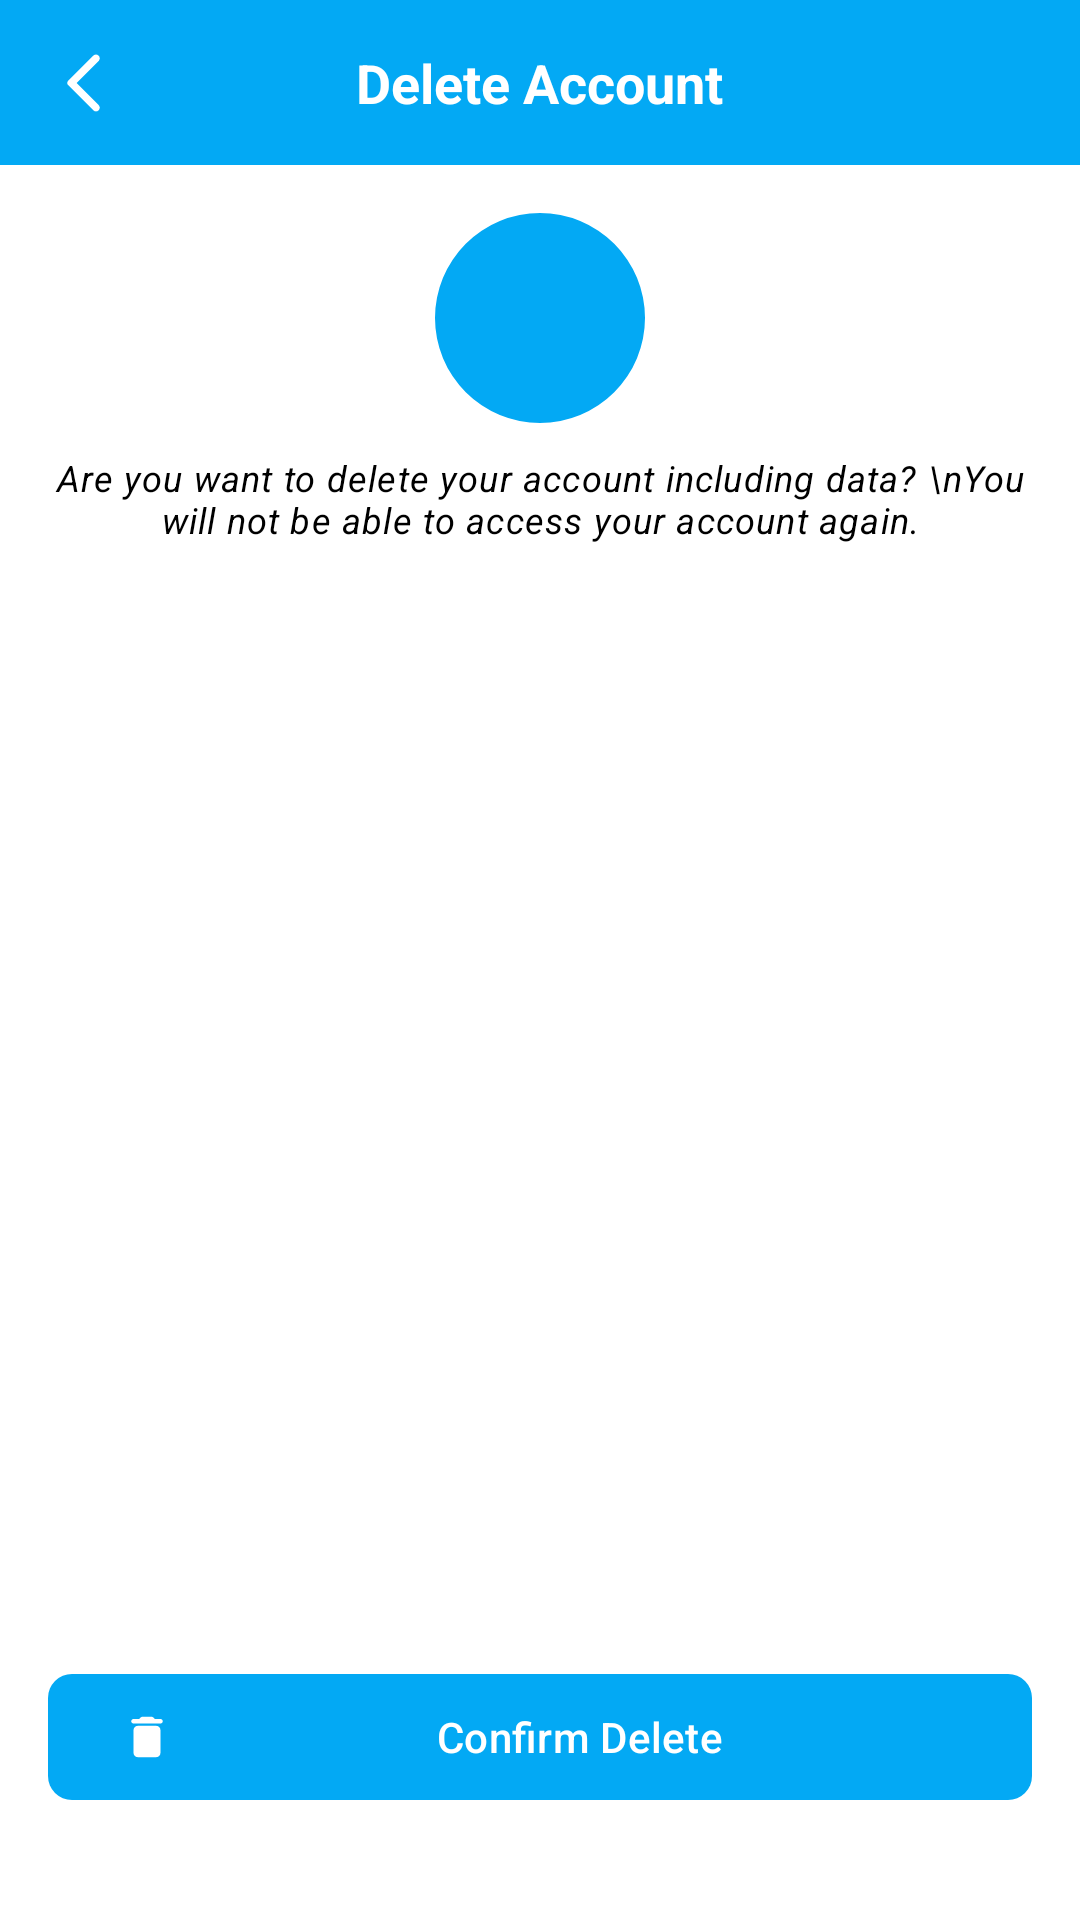

Named icons in this screenshot (1080×1920) and their centers, (x=x, y=y):
back: (x=83, y=83)
